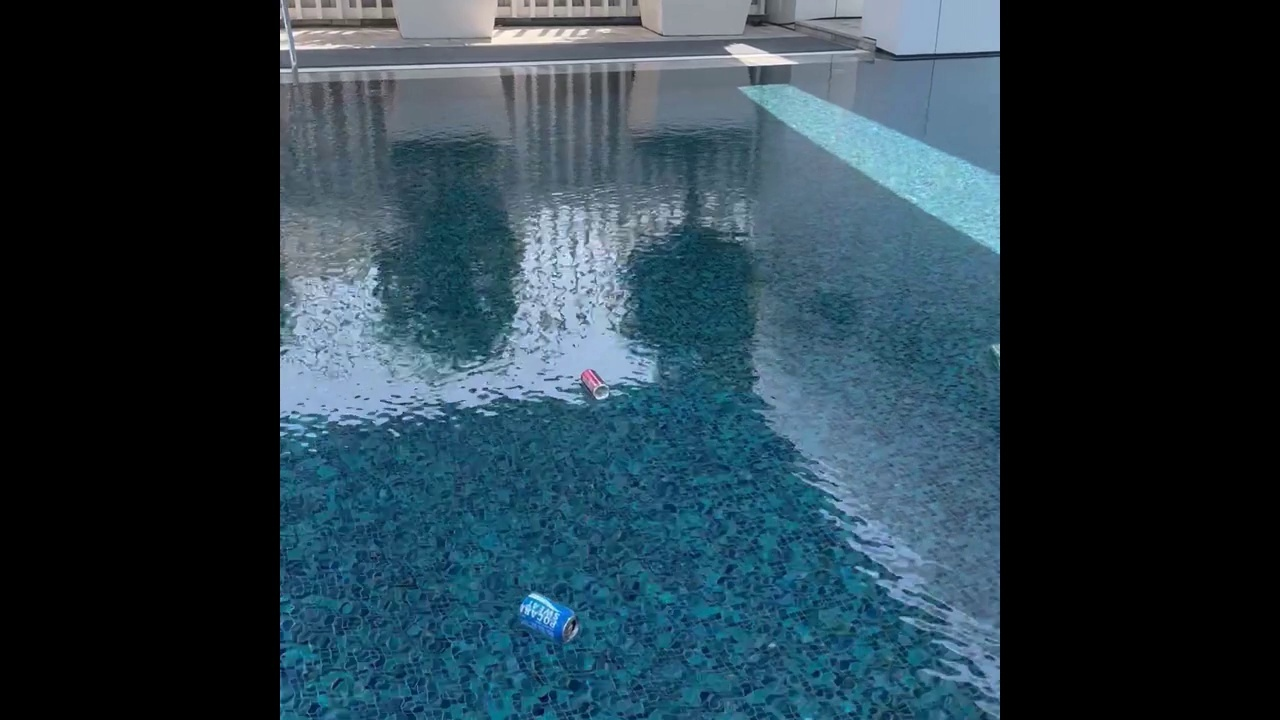debris: (514, 587, 585, 646), (575, 368, 613, 402)
